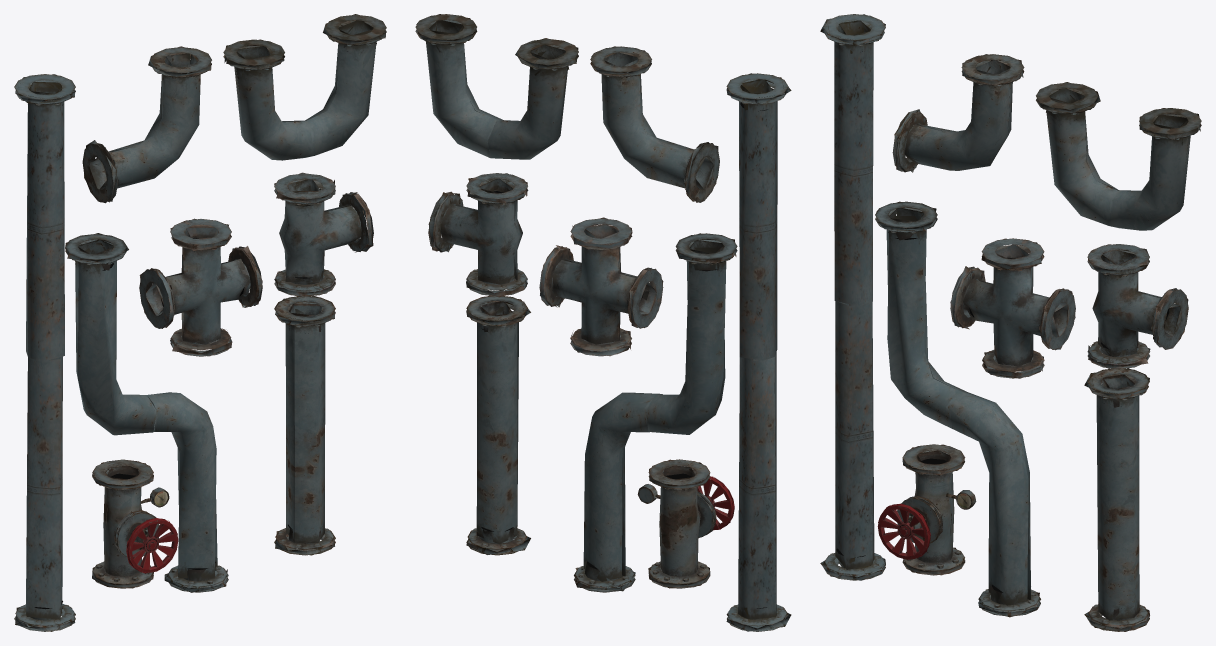
The model's file is modular_industrial_pipes_01_game.gltf.
3 renders of one model, left to right at view 1: azimuth 30°, elevation 25°; view 2: azimuth 150°, elevation 25°; view 3: azimuth 330°, elevation 25°, orthographic.
Parts seen in each view (by area): view 1: modular_industrial_pipes_01_pipe02, modular_industrial_pipes_01_pipe03, modular_industrial_pipes_01_pipe05, modular_industrial_pipes_01_pipe01, modular_industrial_pipes_01_pipe07, modular_industrial_pipes_01_pipe04, modular_industrial_pipes_01_pipe06, modular_industrial_pipes_01_pipe08; view 2: modular_industrial_pipes_01_pipe02, modular_industrial_pipes_01_pipe03, modular_industrial_pipes_01_pipe05, modular_industrial_pipes_01_pipe01, modular_industrial_pipes_01_pipe07, modular_industrial_pipes_01_pipe04, modular_industrial_pipes_01_pipe06, modular_industrial_pipes_01_pipe08; view 3: modular_industrial_pipes_01_pipe02, modular_industrial_pipes_01_pipe03, modular_industrial_pipes_01_pipe05, modular_industrial_pipes_01_pipe01, modular_industrial_pipes_01_pipe07, modular_industrial_pipes_01_pipe06, modular_industrial_pipes_01_pipe04, modular_industrial_pipes_01_pipe08.
Part boxes in pixels (x1=…): modular_industrial_pipes_01_pipe02: x1=14, y1=74, x2=75, y2=631; modular_industrial_pipes_01_pipe03: x1=65, y1=233, x2=228, y2=592; modular_industrial_pipes_01_pipe05: x1=223, y1=14, x2=386, y2=160; modular_industrial_pipes_01_pipe01: x1=274, y1=296, x2=335, y2=555; modular_industrial_pipes_01_pipe07: x1=139, y1=218, x2=262, y2=356; modular_industrial_pipes_01_pipe04: x1=82, y1=46, x2=211, y2=203; modular_industrial_pipes_01_pipe06: x1=274, y1=172, x2=373, y2=296; modular_industrial_pipes_01_pipe08: x1=92, y1=459, x2=178, y2=588; modular_industrial_pipes_01_pipe02: x1=726, y1=73, x2=791, y2=631; modular_industrial_pipes_01_pipe03: x1=574, y1=233, x2=737, y2=592; modular_industrial_pipes_01_pipe05: x1=415, y1=14, x2=578, y2=159; modular_industrial_pipes_01_pipe01: x1=466, y1=295, x2=530, y2=555; modular_industrial_pipes_01_pipe07: x1=539, y1=217, x2=663, y2=356; modular_industrial_pipes_01_pipe04: x1=590, y1=46, x2=719, y2=202; modular_industrial_pipes_01_pipe06: x1=428, y1=173, x2=528, y2=297; modular_industrial_pipes_01_pipe08: x1=637, y1=459, x2=734, y2=588; modular_industrial_pipes_01_pipe02: x1=820, y1=14, x2=885, y2=580; modular_industrial_pipes_01_pipe03: x1=875, y1=201, x2=1040, y2=617; modular_industrial_pipes_01_pipe05: x1=1036, y1=82, x2=1201, y2=230; modular_industrial_pipes_01_pipe01: x1=1084, y1=368, x2=1149, y2=631; modular_industrial_pipes_01_pipe07: x1=950, y1=238, x2=1075, y2=378; modular_industrial_pipes_01_pipe06: x1=1087, y1=244, x2=1188, y2=369; modular_industrial_pipes_01_pipe04: x1=892, y1=54, x2=1024, y2=172; modular_industrial_pipes_01_pipe08: x1=877, y1=444, x2=976, y2=575.
Bounding box in the file's own units: 1.42 × 1.95 × 0.3078.
Materials: 2 (2 with a texture image).
